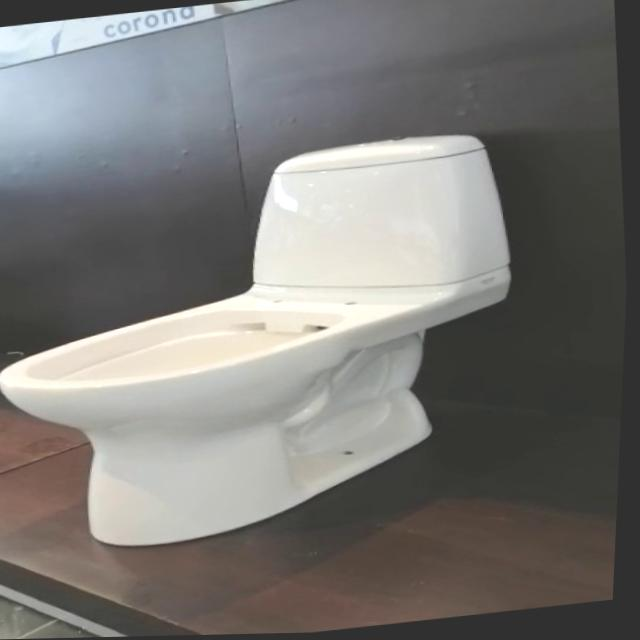toilet: (0, 126, 538, 562)
